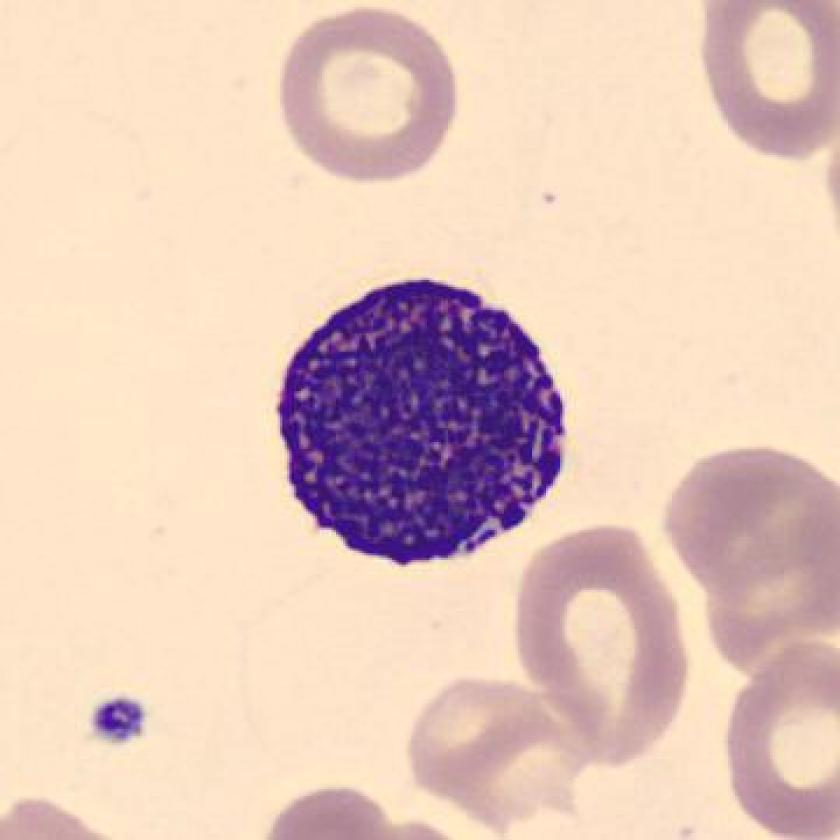basophil: (269, 270, 580, 571)
